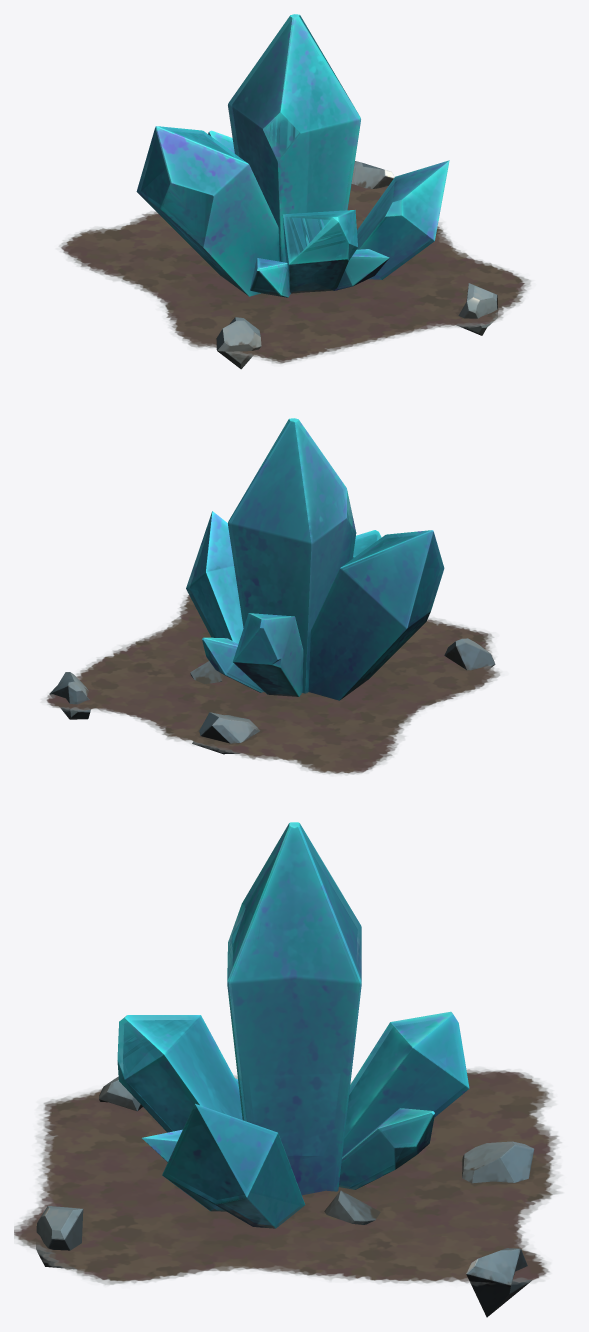
File: cristais_azuis_1.glb
3 renders of one model, top to bottom at view 1: azimuth 30°, elevation 25°; view 2: azimuth 150°, elevation 25°; view 3: azimuth 270°, elevation 25°, orthographic. The views are drawn at different scales.
Parts seen in each view (by area): view 1: Cube.006; view 2: Cube.006; view 3: Cube.006.
Part boxes in pixels (left/top/right/bottom): Cube.006: left=56, top=14, right=531, bottom=369; Cube.006: left=40, top=418, right=502, bottom=775; Cube.006: left=14, top=822, right=563, bottom=1317.
Size of the model in its own units: 301 by 235 by 301.
1 material, 1 textured.
